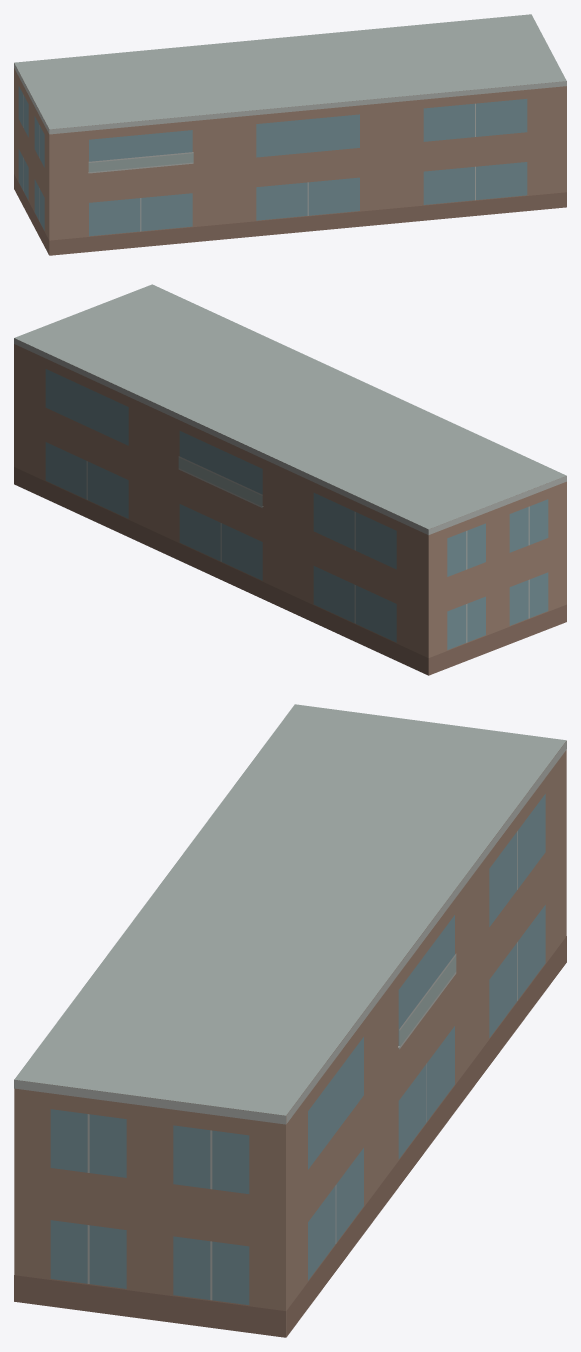
File: survey-upis-32817488.glb
The picture shows the model from 3 angles, top to bottom: view 1: azimuth 30°, elevation 25°; view 2: azimuth 150°, elevation 25°; view 3: azimuth 270°, elevation 25°; orthographic projection. The views are drawn at different scales.
Visible parts, largest first — view 1: survey-upis-32817488.tmp; view 2: survey-upis-32817488.tmp; view 3: survey-upis-32817488.tmp.
Boxes of the visible parts, <box> form: survey-upis-32817488.tmp: <box>14,14,566,255</box>; survey-upis-32817488.tmp: <box>14,284,566,675</box>; survey-upis-32817488.tmp: <box>14,704,566,1337</box>.
Size of the model in its own units: 24.26 by 6.1 by 13.77.
